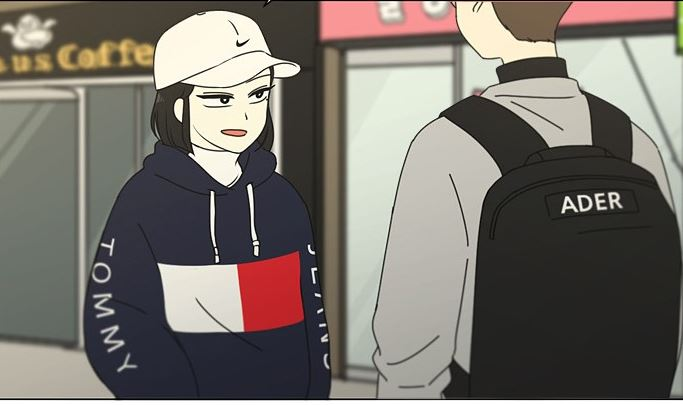hat: (153, 9, 301, 87)
